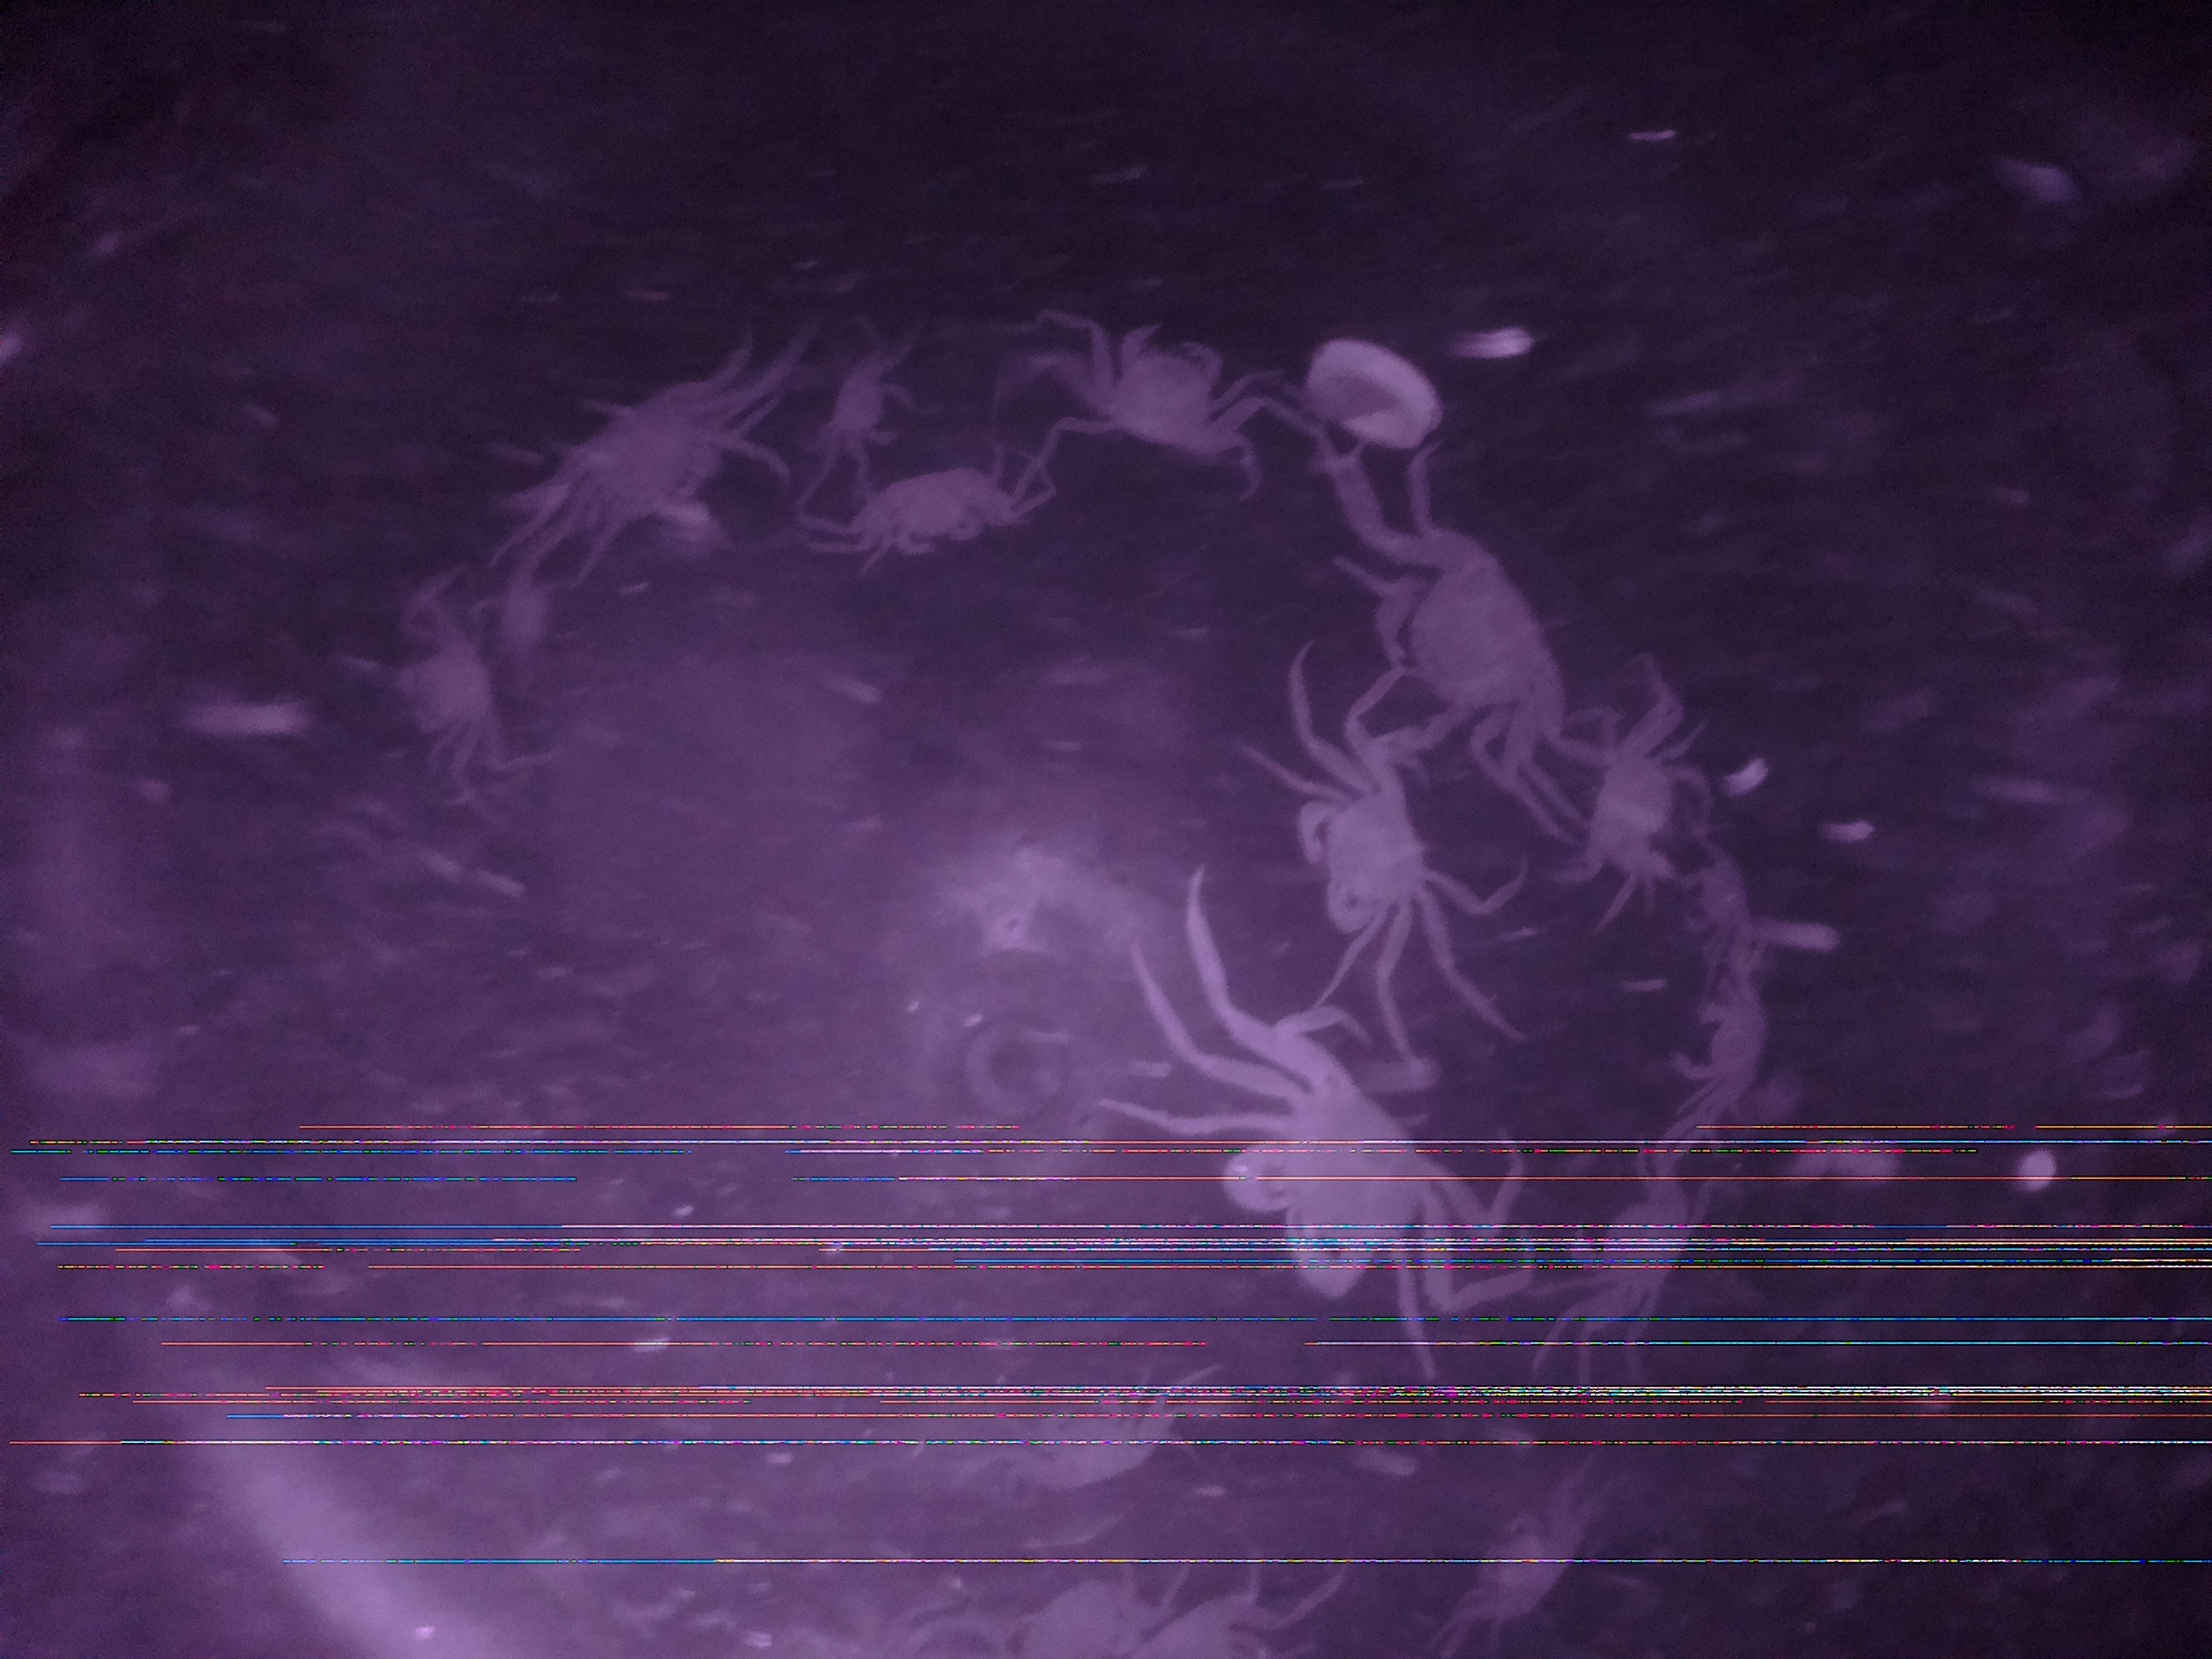Crab: (1346, 525, 1573, 753), (1278, 744, 1442, 951), (1071, 315, 1271, 477), (1562, 727, 1719, 889), (840, 451, 1005, 572)
